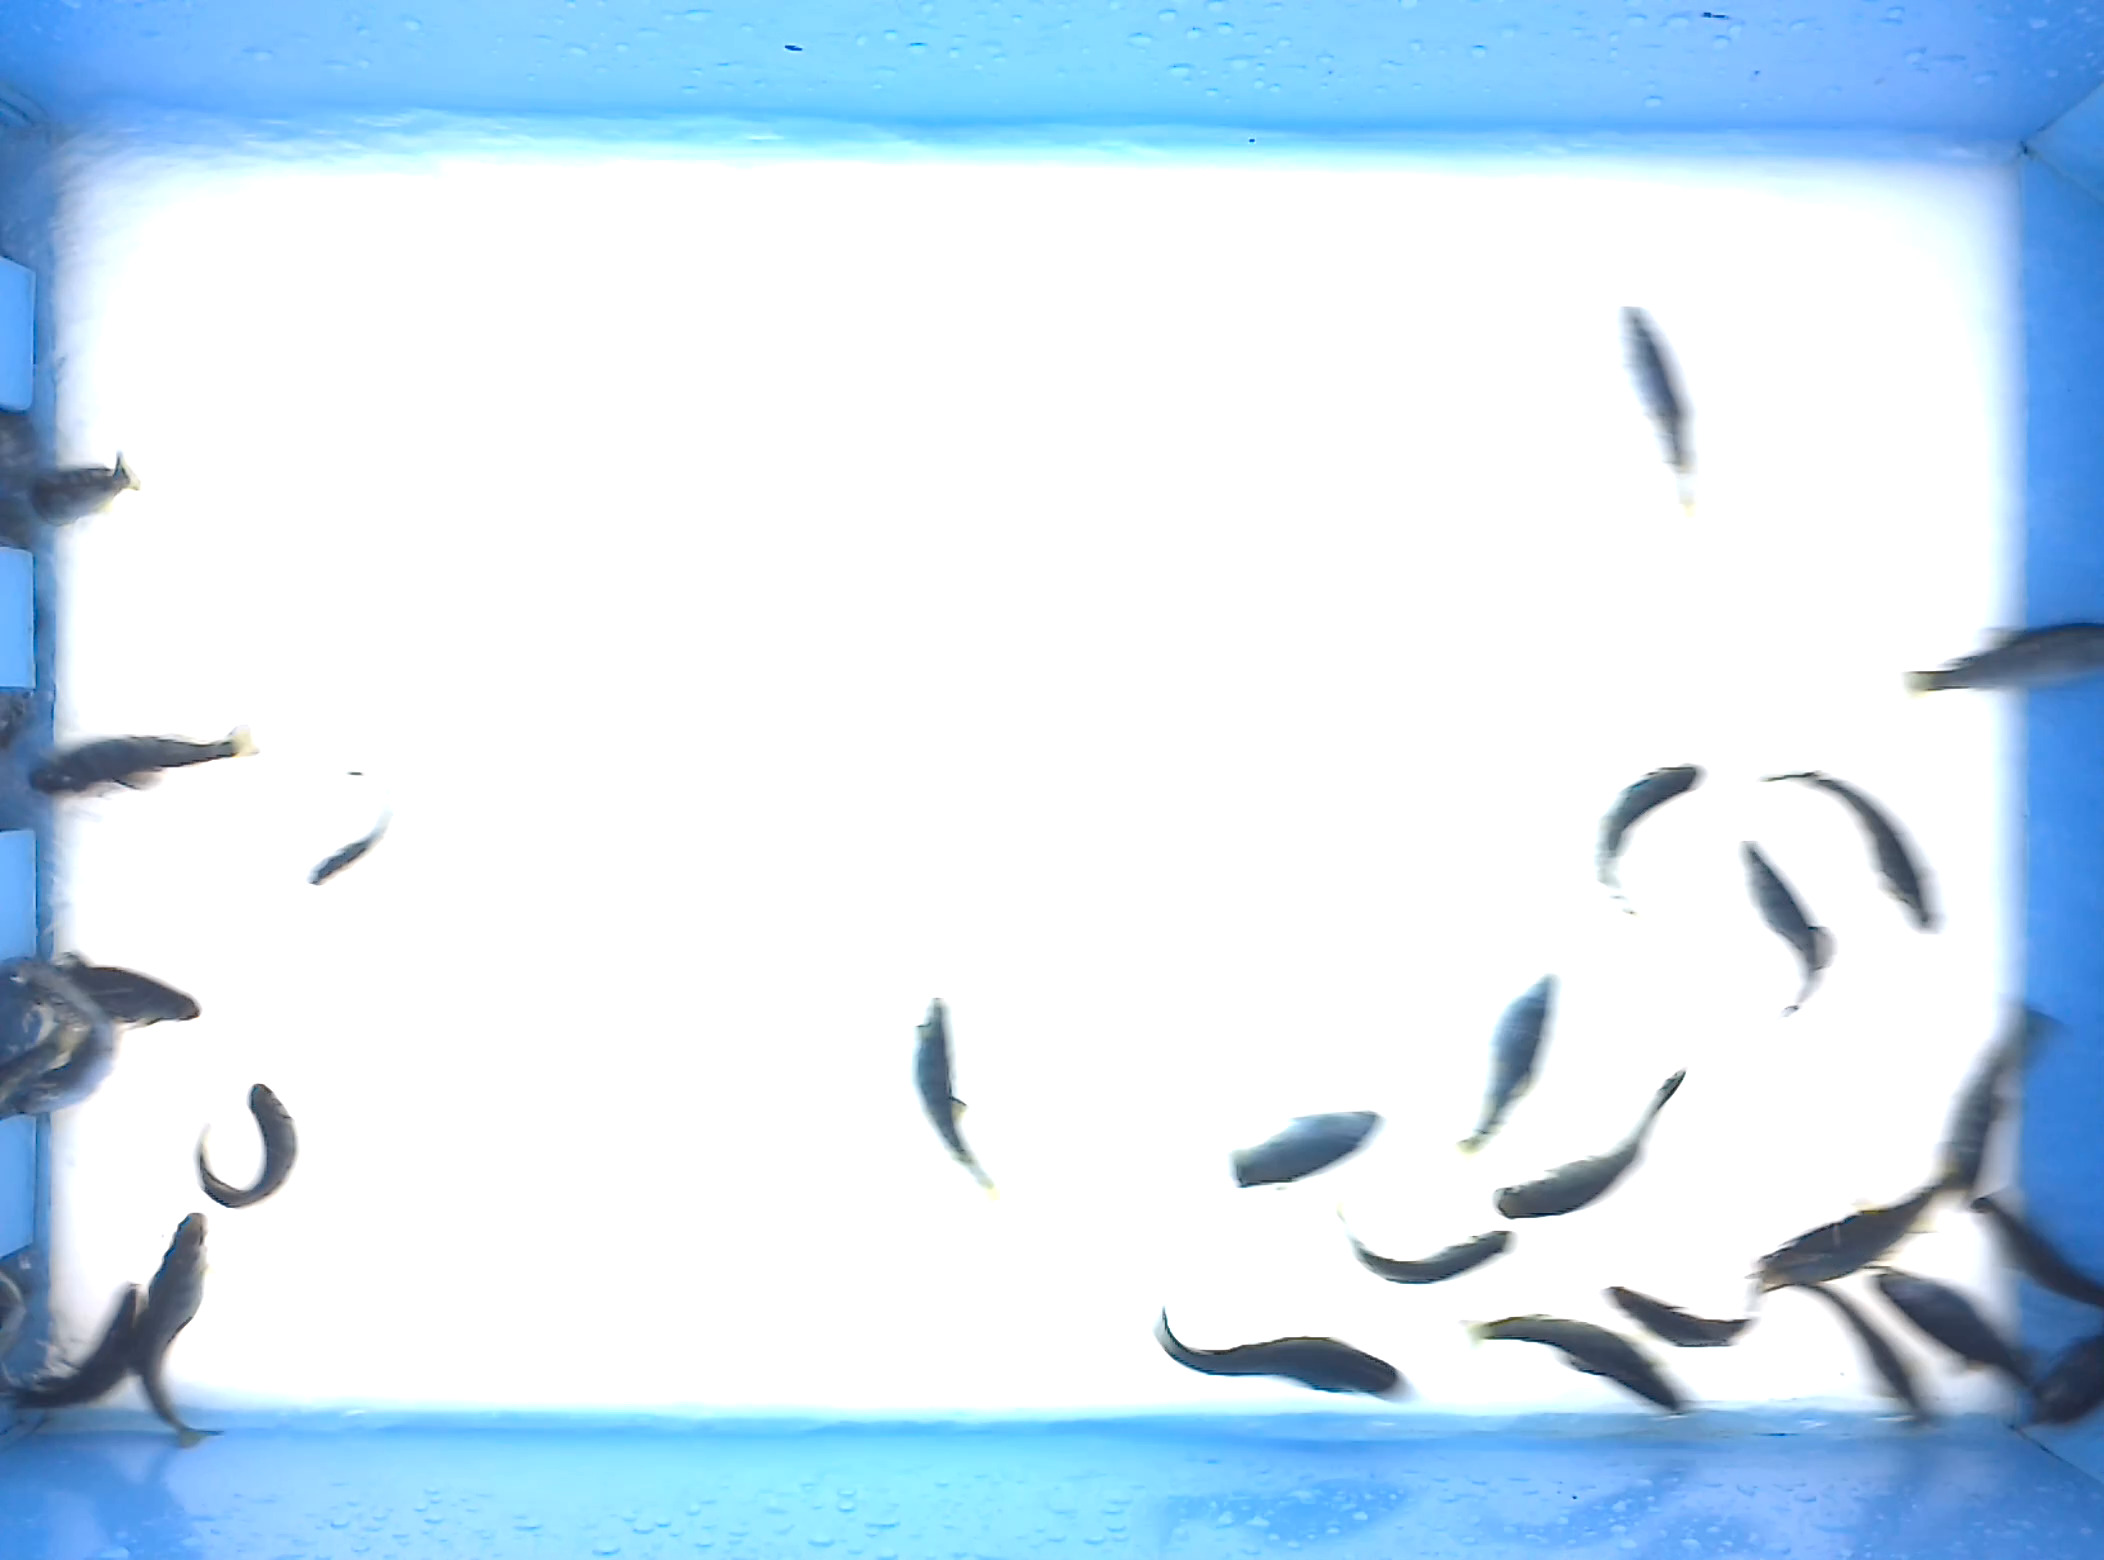fish: (1753, 767, 1950, 937), (1488, 1065, 1688, 1222), (1747, 1167, 1965, 1304), (1934, 990, 2070, 1209), (1149, 1304, 1421, 1411), (1750, 1272, 1932, 1424), (1462, 1311, 1704, 1414), (1865, 1255, 2037, 1398), (129, 1208, 229, 1450), (1452, 968, 1562, 1159), (1734, 836, 1842, 1023), (1612, 303, 1706, 519), (2, 1280, 147, 1416), (1591, 759, 1711, 924), (21, 723, 262, 801), (909, 995, 1001, 1196), (1326, 1203, 1517, 1290), (1226, 1108, 1390, 1199), (192, 1077, 298, 1213), (1599, 1281, 1765, 1354), (306, 767, 398, 888)
